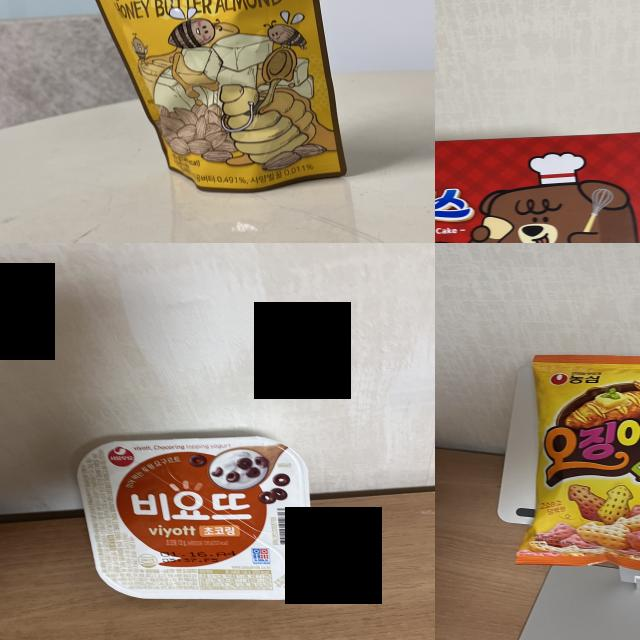bYott: (80, 442, 314, 602)
honeyAmond: (126, 0, 309, 186)
ohYes: (435, 145, 640, 243)
ozingZip: (542, 360, 640, 561)
